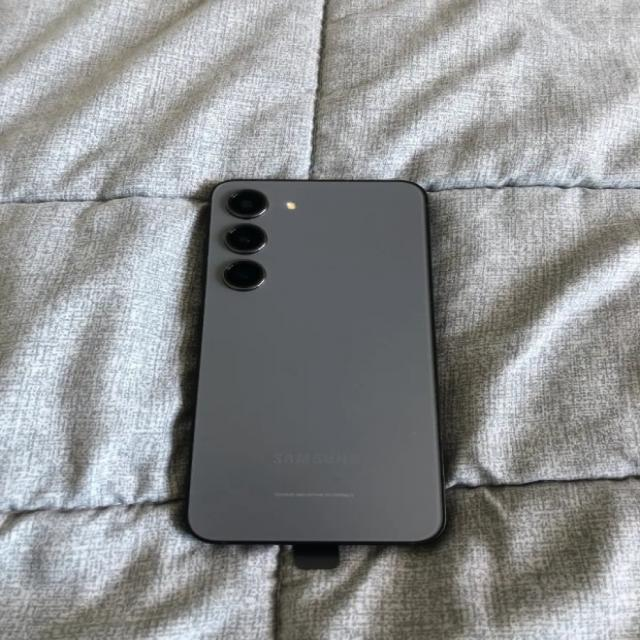phone: (181, 178, 445, 550)
